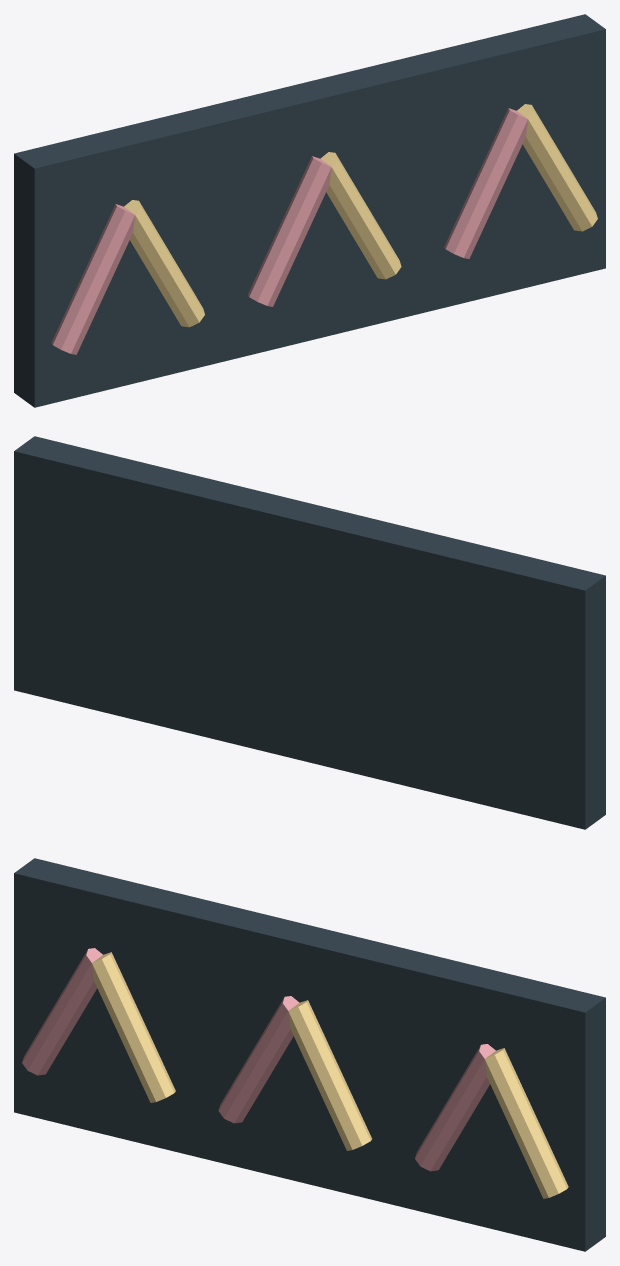
The model's file is upgrade_neon_sign.glb.
The picture shows the model from 3 angles, top to bottom: view 1: azimuth 30°, elevation 25°; view 2: azimuth 150°, elevation 25°; view 3: azimuth 330°, elevation 25°; orthographic projection.
Visible parts, largest first — view 1: backboard, neon.004, neon.002, neon, neon.003, neon.001, neon.005; view 2: backboard; view 3: backboard, neon.001, neon.003, neon.005, neon.002, neon, neon.004.
Part boxes in pixels (x1,y1,x2,y2): backboard: (14, 14, 605, 407); neon.004: (444, 108, 527, 258); neon.002: (248, 156, 331, 306); neon: (51, 204, 135, 354); neon.003: (320, 152, 401, 279); neon.001: (124, 200, 204, 327); neon.005: (517, 104, 597, 231); backboard: (14, 436, 605, 829); backboard: (14, 858, 605, 1251); neon.001: (92, 952, 175, 1102); neon.003: (288, 1000, 371, 1150); neon.005: (484, 1048, 568, 1198); neon.002: (218, 996, 299, 1123); neon: (22, 948, 102, 1075); neon.004: (415, 1044, 495, 1171).
Bounding box in the file's own units: 1.6 × 0.64 × 0.155.
